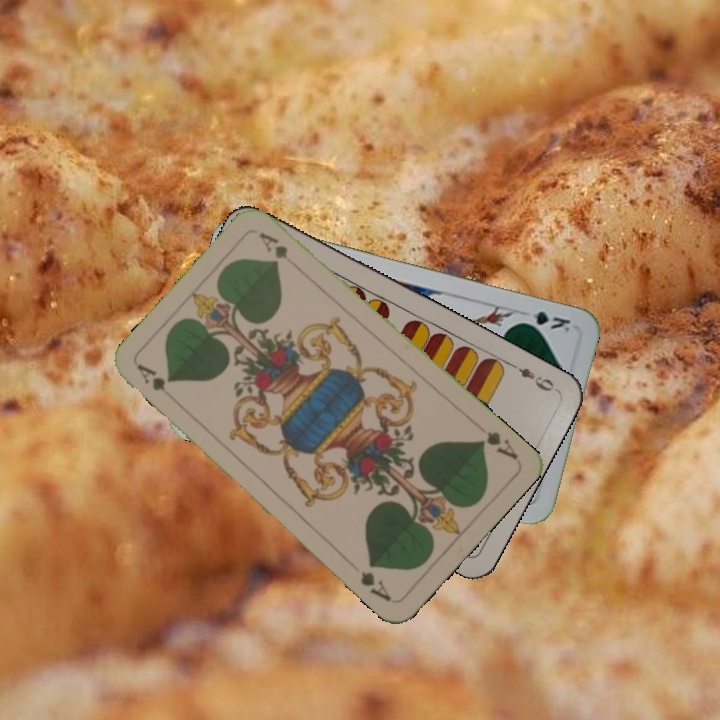E9: (506, 359, 560, 394)
GA: (474, 427, 521, 463), (133, 360, 168, 394)
GK: (515, 307, 573, 335)
